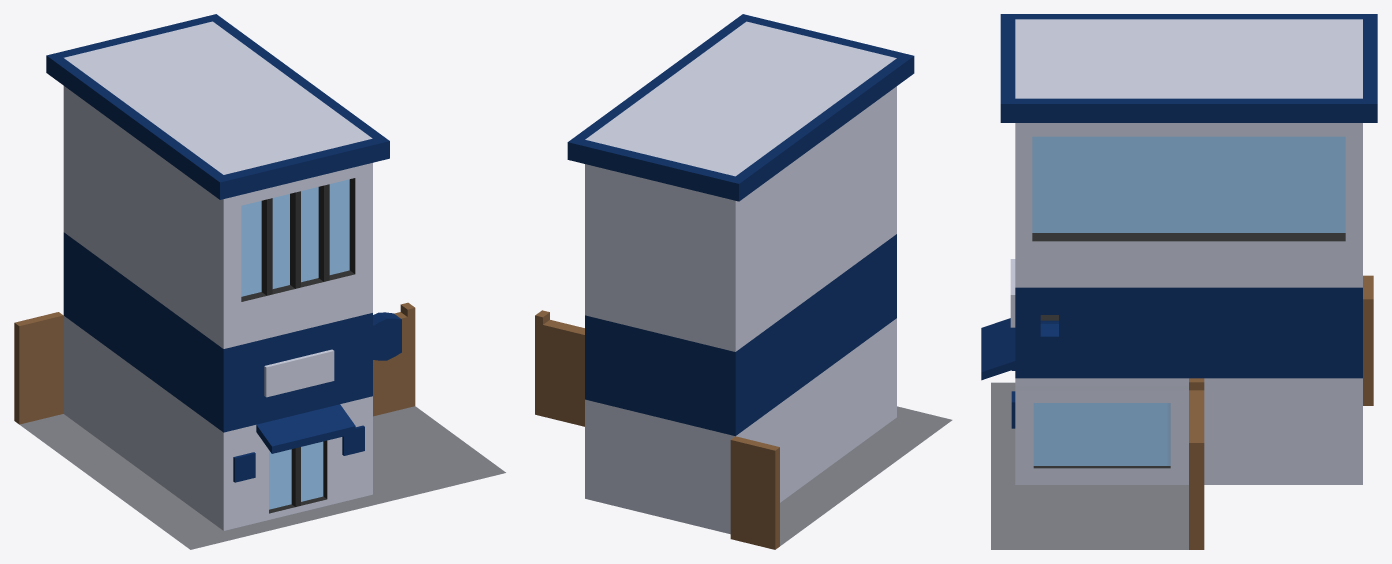
File: Building3.fbx
3 views of the same model, side by side, from view 1: azimuth 30°, elevation 25°; view 2: azimuth 150°, elevation 25°; view 3: azimuth 270°, elevation 25° (orthographic). The views are drawn at different scales.
Visible parts, largest first — view 1: Building3; view 2: Building3; view 3: Building3.
Part boxes in pixels (left/top/right/bottom): Building3: left=14, top=14, right=505, bottom=549; Building3: left=535, top=14, right=952, bottom=549; Building3: left=981, top=14, right=1377, bottom=549.
Bounding box in the file's own units: 800 × 861 × 800.
